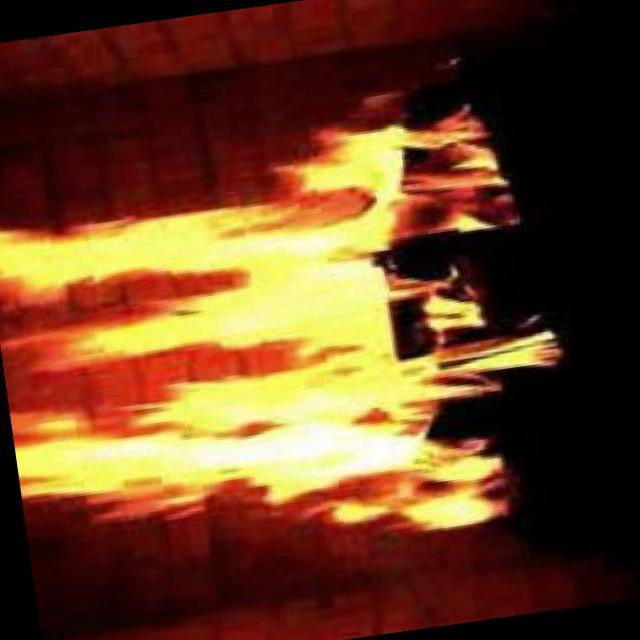Fire: (29, 166, 505, 570)
